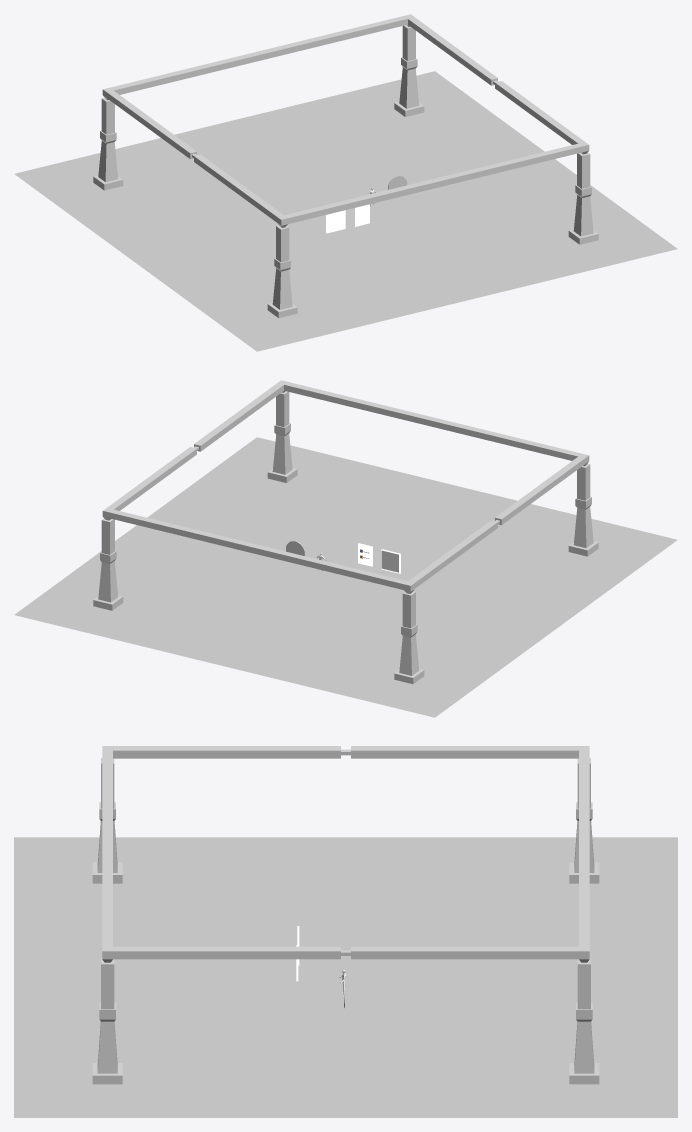
The model's file is gamescene1.glb.
3 views of the same model, one above another, from view 1: azimuth 30°, elevation 25°; view 2: azimuth 150°, elevation 25°; view 3: azimuth 270°, elevation 25° (orthographic). The views are drawn at different scales.
Parts seen in each view (by area): view 1: Plane, Cube.002; view 2: Plane, Cube.002; view 3: Plane, Cube.002.
Boxes of the visible parts, left/top/right/bottom form: Plane: left=14, top=71, right=677, bottom=351; Cube.002: left=93, top=14, right=598, bottom=318; Plane: left=14, top=437, right=677, bottom=717; Cube.002: left=93, top=380, right=598, bottom=684; Plane: left=14, top=837, right=677, bottom=1117; Cube.002: left=92, top=746, right=599, bottom=1084.
Bounding box in the file's own units: 44.54 × 9.69 × 44.54.
Materials: 9 (2 with a texture image).
